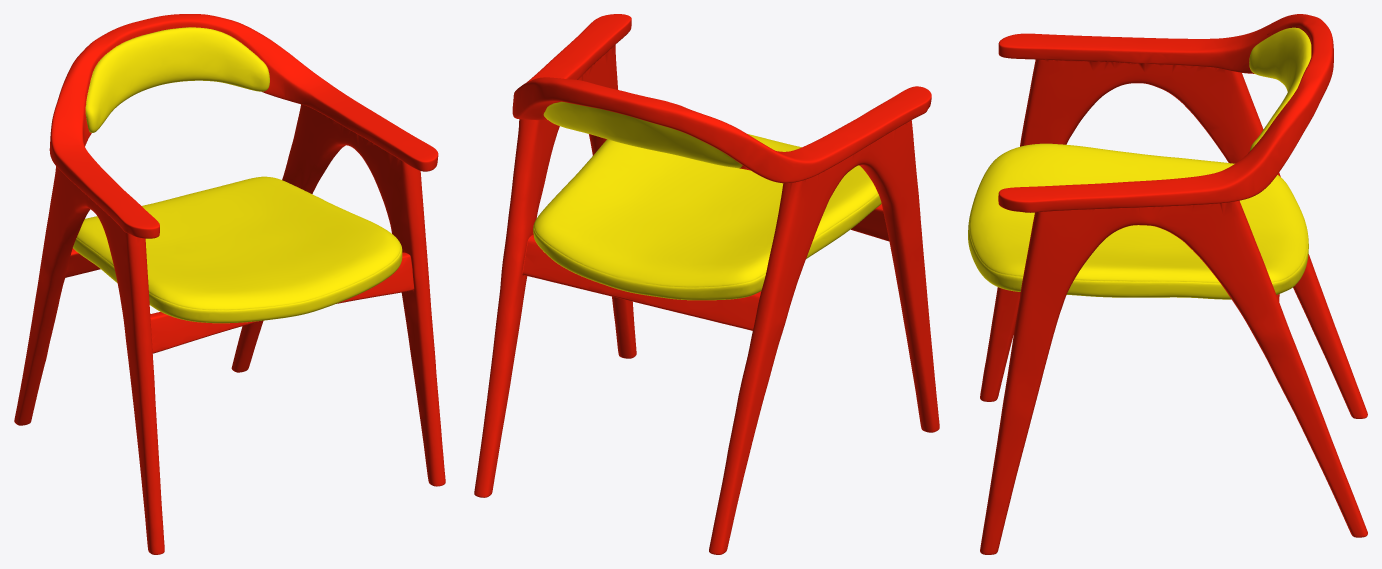
Rendered from rk-medziaginis.glb.
3 views of the same model, side by side, from view 1: azimuth 30°, elevation 25°; view 2: azimuth 150°, elevation 25°; view 3: azimuth 270°, elevation 25° (orthographic). The views are drawn at different scales.
Parts seen in each view (by area): view 1: frame, seat, backrest; view 2: frame, seat, backrest; view 3: frame, seat, backrest.
Part boxes in pixels (x1=…): frame: x1=14, y1=14, x2=445, y2=554; seat: x1=73, y1=176, x2=402, y2=323; backrest: x1=85, y1=27, x2=269, y2=132; frame: x1=474, y1=14, x2=939, y2=554; seat: x1=533, y1=134, x2=881, y2=300; backrest: x1=543, y1=101, x2=742, y2=168; frame: x1=980, y1=14, x2=1367, y2=554; seat: x1=968, y1=143, x2=1308, y2=299; backrest: x1=1249, y1=27, x2=1311, y2=150.
Bounding box in the file's own units: 0.1004 × 0.12 × 0.1007.
